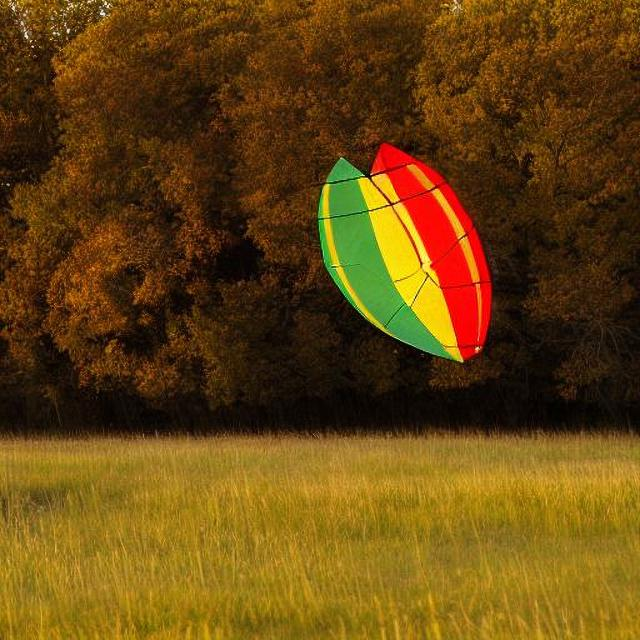floating object: (314, 142, 494, 358)
